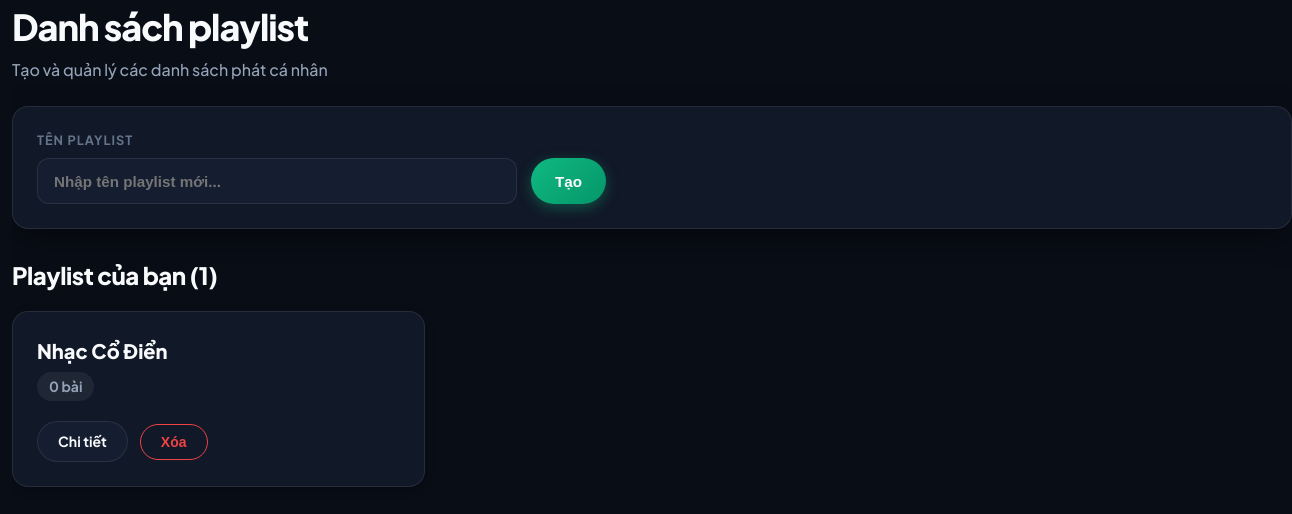
Test: PlaylistsPage › bấm nút Xóa thì xóa playlist tương ứng khỏi danh sách
The image size is (1292, 514).
Expected: the link "Nhạc Cổ Điển" is shown, x1=37 y1=338 x2=168 y2=363
Click the button with aria-label "xóa playlist nhạc cổ điển" at (174, 442), box x1=140 y1=424 x2=208 y2=460
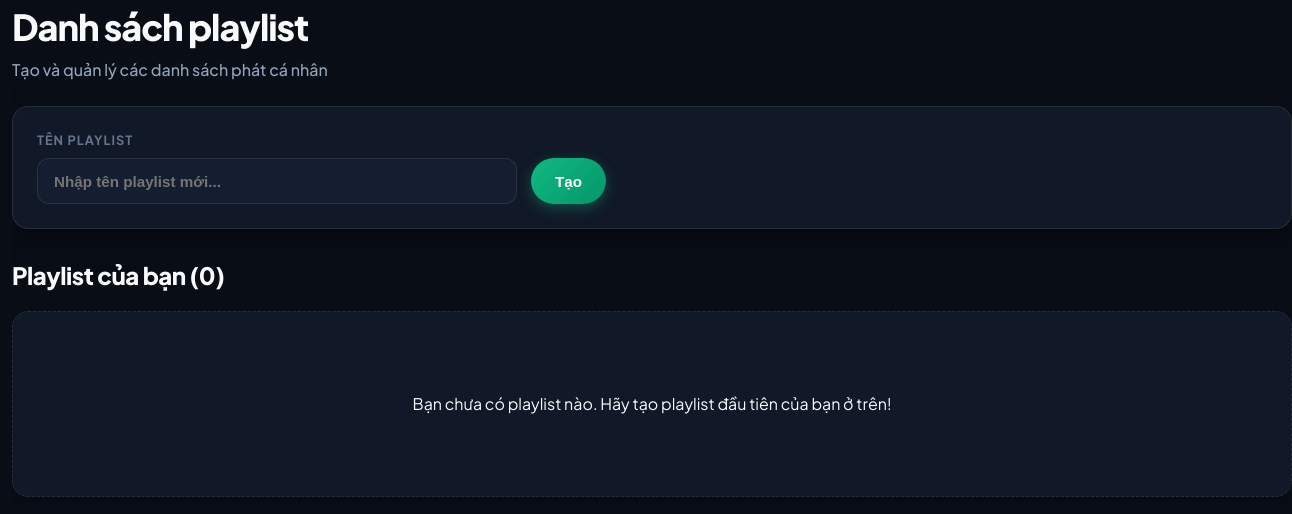
Expected: the link "Nhạc Cổ Điển" is gone
